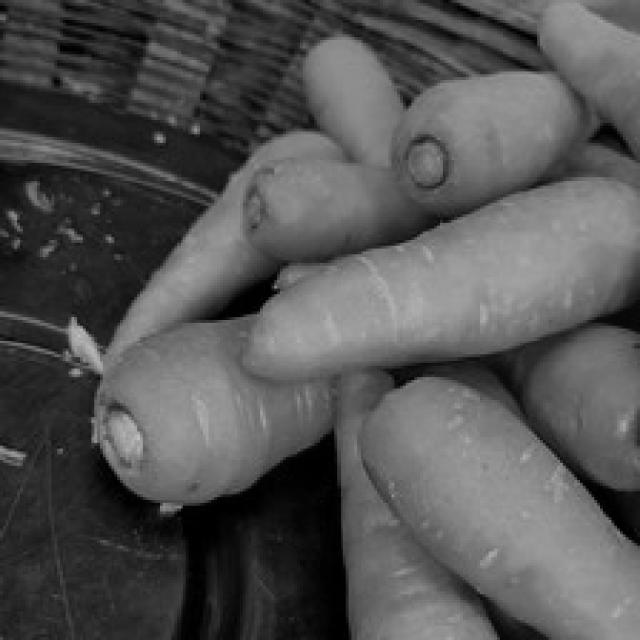Fresh_Carrot: (364, 363, 640, 640), (249, 184, 640, 372), (82, 311, 362, 496)
